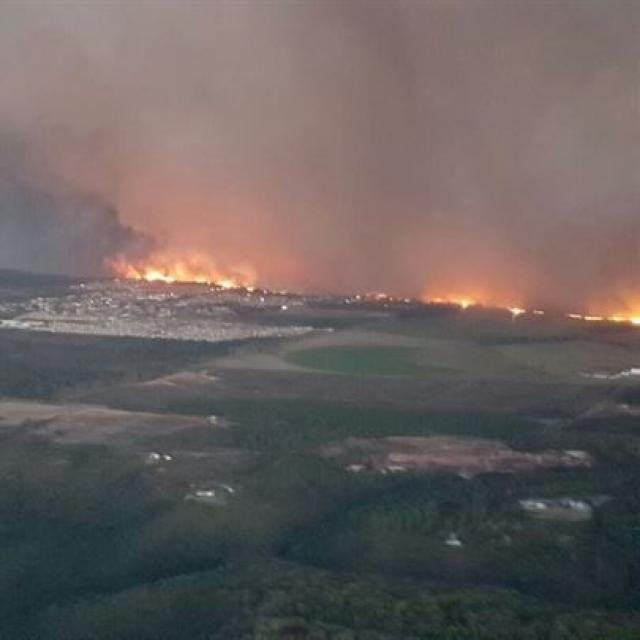Fire: (103, 248, 640, 330)
Smoke: (0, 0, 633, 284)
